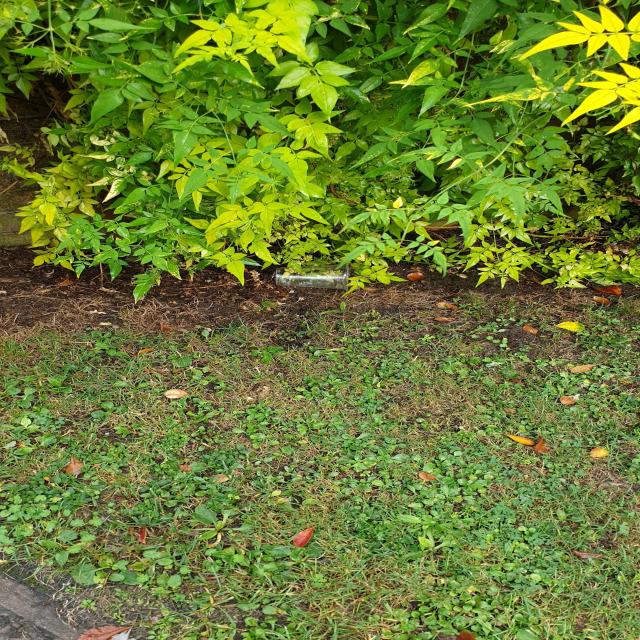litter: (276, 264, 349, 291)
